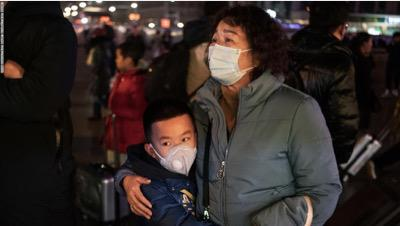with_mask: (207, 26, 250, 86), (155, 127, 196, 175)
without_mask: (114, 51, 126, 72)
